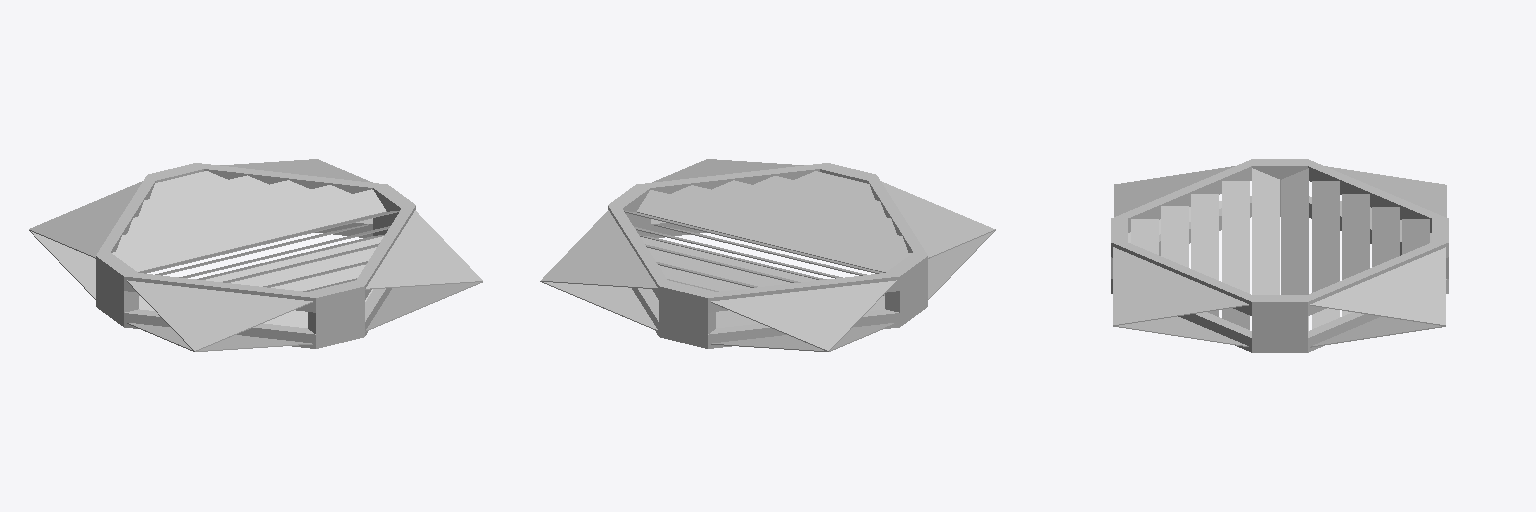
Rendered from pvcell.obj.
3 views of the same model, side by side, from view 1: azimuth 30°, elevation 25°; view 2: azimuth 150°, elevation 25°; view 3: azimuth 270°, elevation 25° (orthographic).
Visible parts, largest first — view 1: panel, structure; view 2: panel, structure; view 3: panel, structure.
Part boxes in pixels (x1,y1,x2,y2): panel: (29, 159, 482, 351); structure: (96, 163, 415, 348); panel: (540, 159, 995, 351); structure: (608, 163, 927, 348); panel: (1113, 166, 1446, 347); structure: (1111, 159, 1448, 352).
Size of the model in its own units: 6 by 1 by 6.